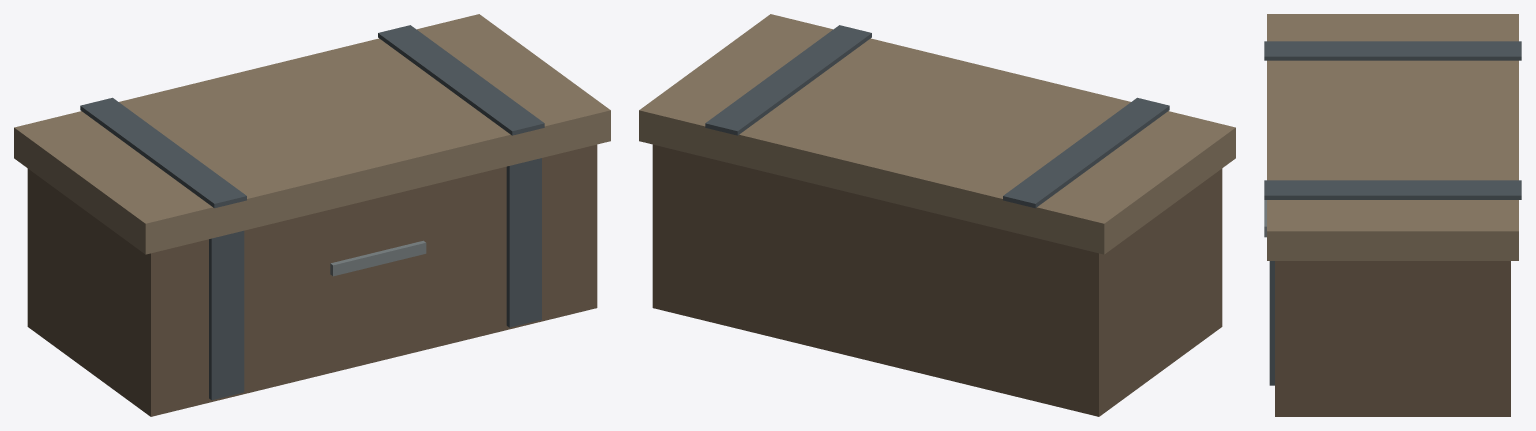
The model's file is parish_chest.glb.
The picture shows the model from 3 angles, left to right: view 1: azimuth 30°, elevation 25°; view 2: azimuth 150°, elevation 25°; view 3: azimuth 270°, elevation 25°; orthographic projection. The views are drawn at different scales.
Visible parts, largest first — view 1: parish_chest; view 2: parish_chest; view 3: parish_chest.
Boxes of the visible parts, x1=… form: parish_chest: x1=14, y1=14, x2=610, y2=416; parish_chest: x1=639, y1=14, x2=1235, y2=416; parish_chest: x1=1264, y1=14, x2=1521, y2=416.
Bounding box in the file's own units: 1.92 × 0.8 × 0.96.
